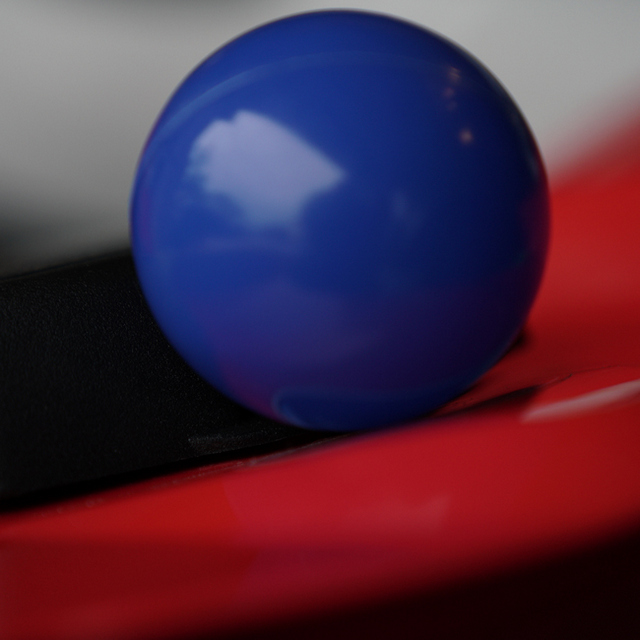Ball: (132, 8, 547, 435)
